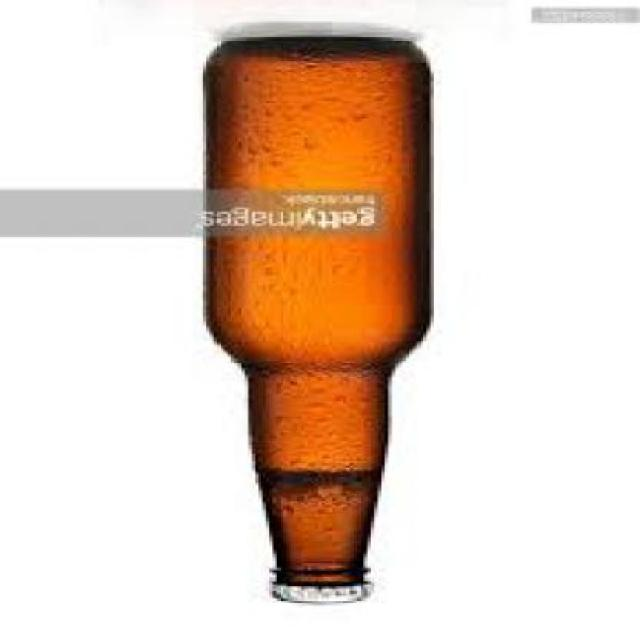GLASS: (206, 39, 437, 587)
METAL: (276, 587, 375, 605)
